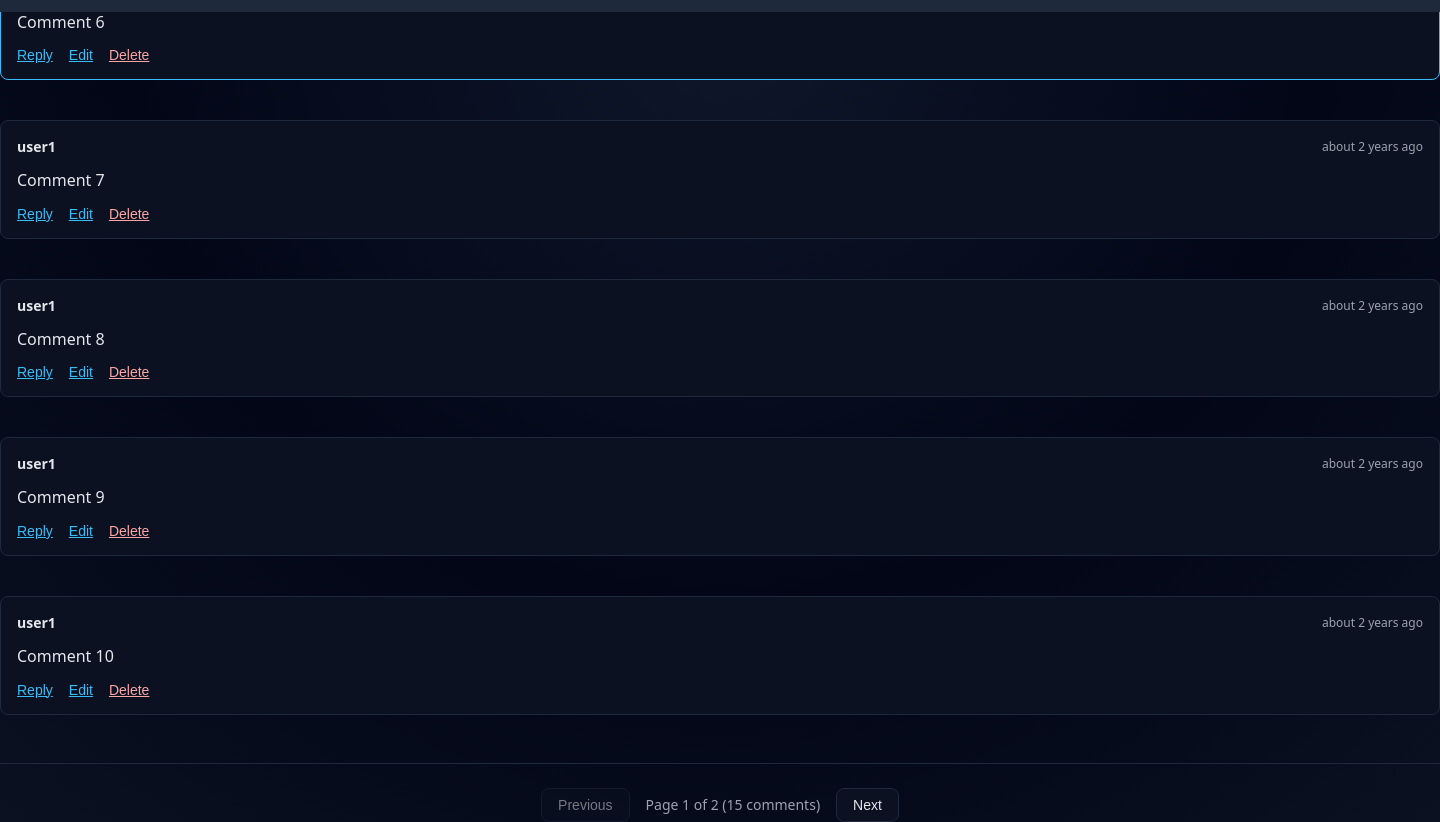
Test case: CommentsList › navigates to next page when Next button is clicked
Click the button with aria-label "Next page": point(868, 804) [836,788,899,821]
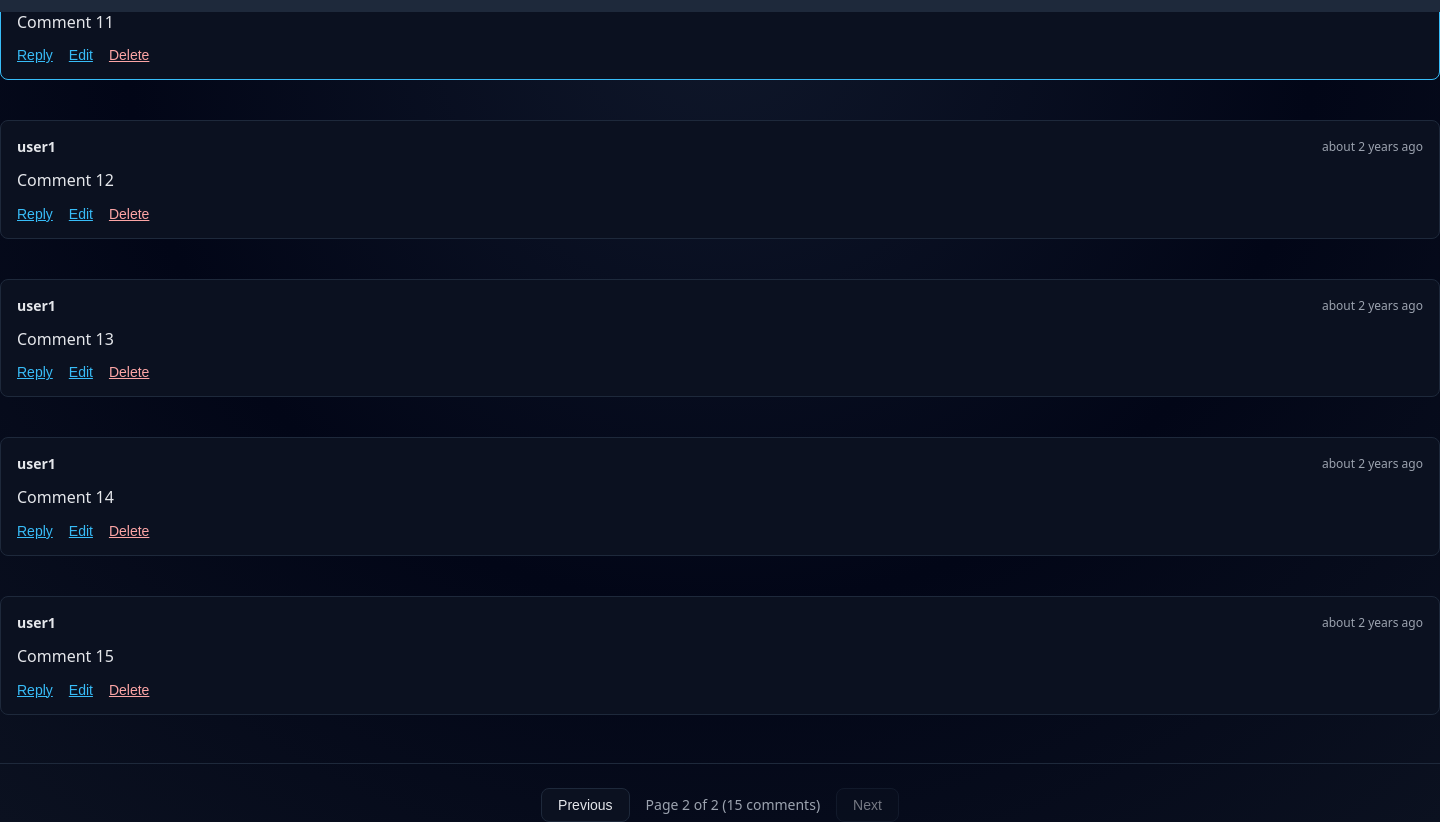
Expected: the text "Page 2 of 2 (15 comments)" is shown, [646,795,820,814]
